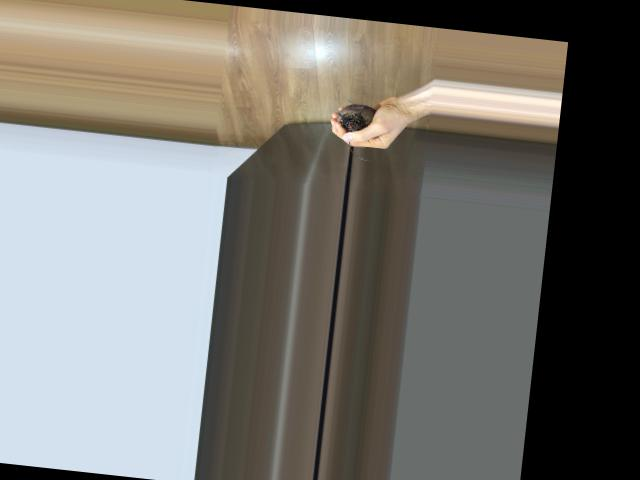beet: (331, 101, 376, 161)
